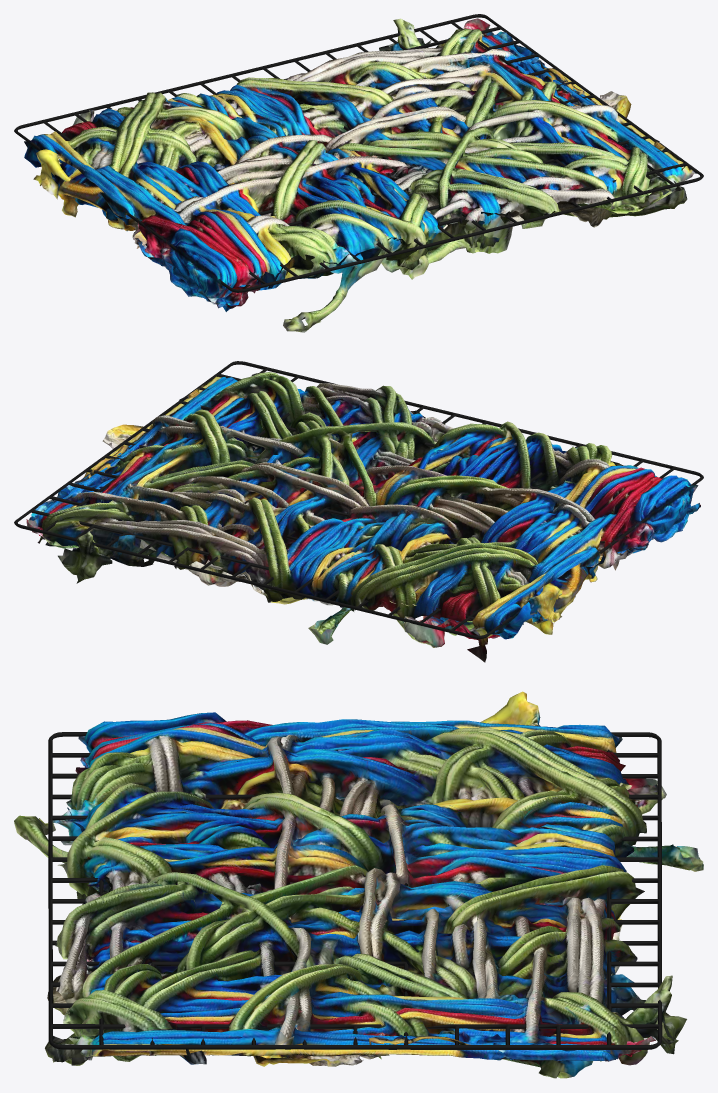
3 views of the same model, one above another, from view 1: azimuth 30°, elevation 25°; view 2: azimuth 150°, elevation 25°; view 3: azimuth 270°, elevation 25° (orthographic). The views are drawn at different scales.
Parts seen in each view (by area): view 1: front, back, Frame; view 2: front, back, Frame; view 3: front, Frame, back.
Part boxes in pixels (bbox=[...]): front: bbox=[24, 18, 696, 332]; back: bbox=[24, 18, 687, 311]; Frame: bbox=[14, 14, 703, 292]; front: bbox=[29, 372, 698, 662]; back: bbox=[26, 373, 700, 647]; Frame: bbox=[14, 361, 703, 638]; front: bbox=[14, 691, 686, 1065]; Frame: bbox=[48, 732, 662, 1049]; back: bbox=[45, 726, 703, 1078].
Bounding box in the file's own units: 0.8649 × 0.1334 × 0.7289.
3 materials, 2 textured.
